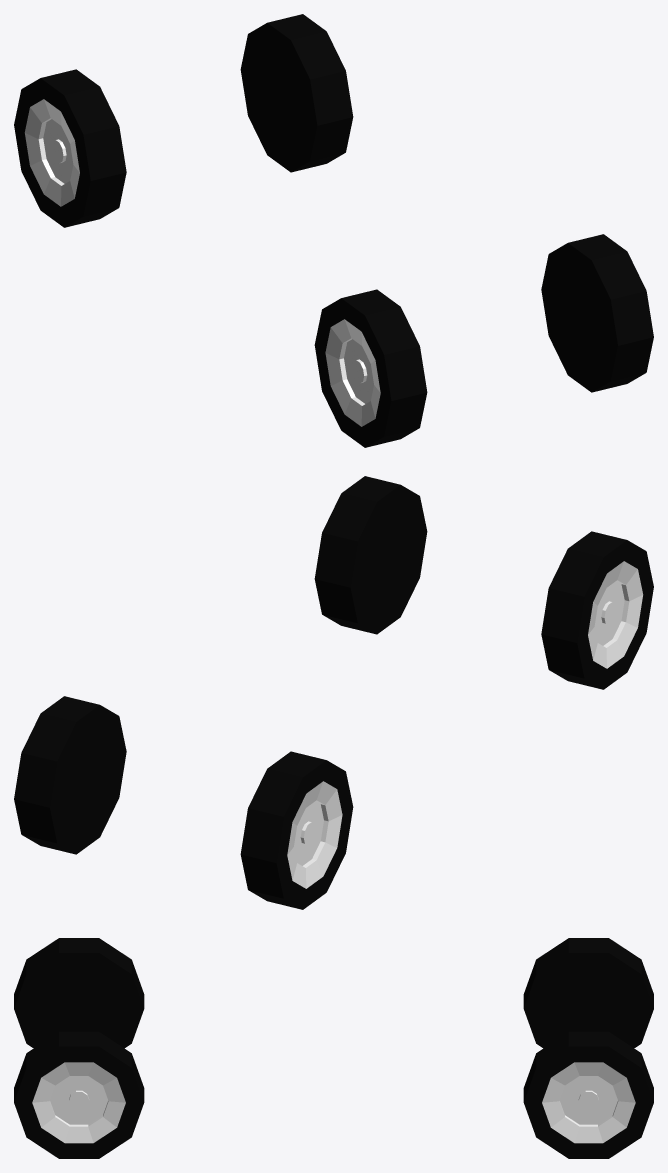
File: TaxiBaseWheel.fbx
The picture shows the model from 3 angles, top to bottom: view 1: azimuth 30°, elevation 25°; view 2: azimuth 150°, elevation 25°; view 3: azimuth 270°, elevation 25°; orthographic projection. The views are drawn at different scales.
Parts seen in each view (by area): view 1: OldRims; view 2: OldRims; view 3: OldRims.
Part boxes in pixels (x1,y1,x2,y2): OldRims: (14,14,653,447); OldRims: (14,476,653,909); OldRims: (14,938,653,1158).
Bounding box in the file's own units: 170 × 81.91 × 423.
